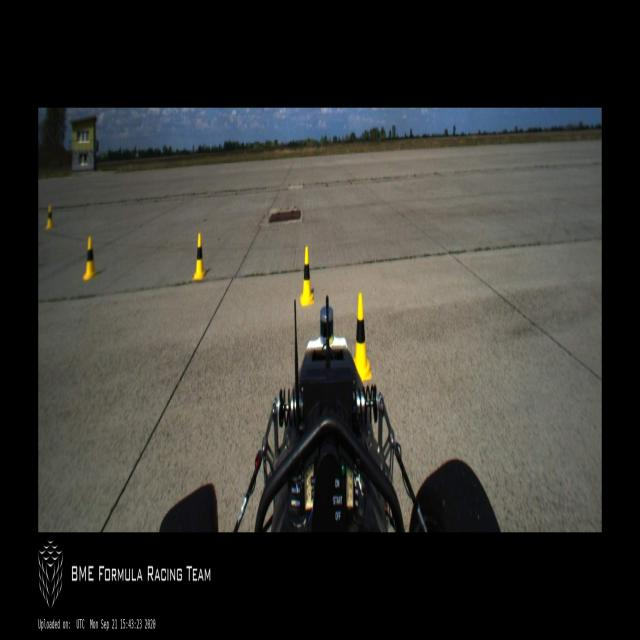yellow_cone: (351, 293, 372, 380), (300, 247, 314, 306), (83, 236, 97, 281), (192, 234, 205, 280), (45, 205, 54, 229)
